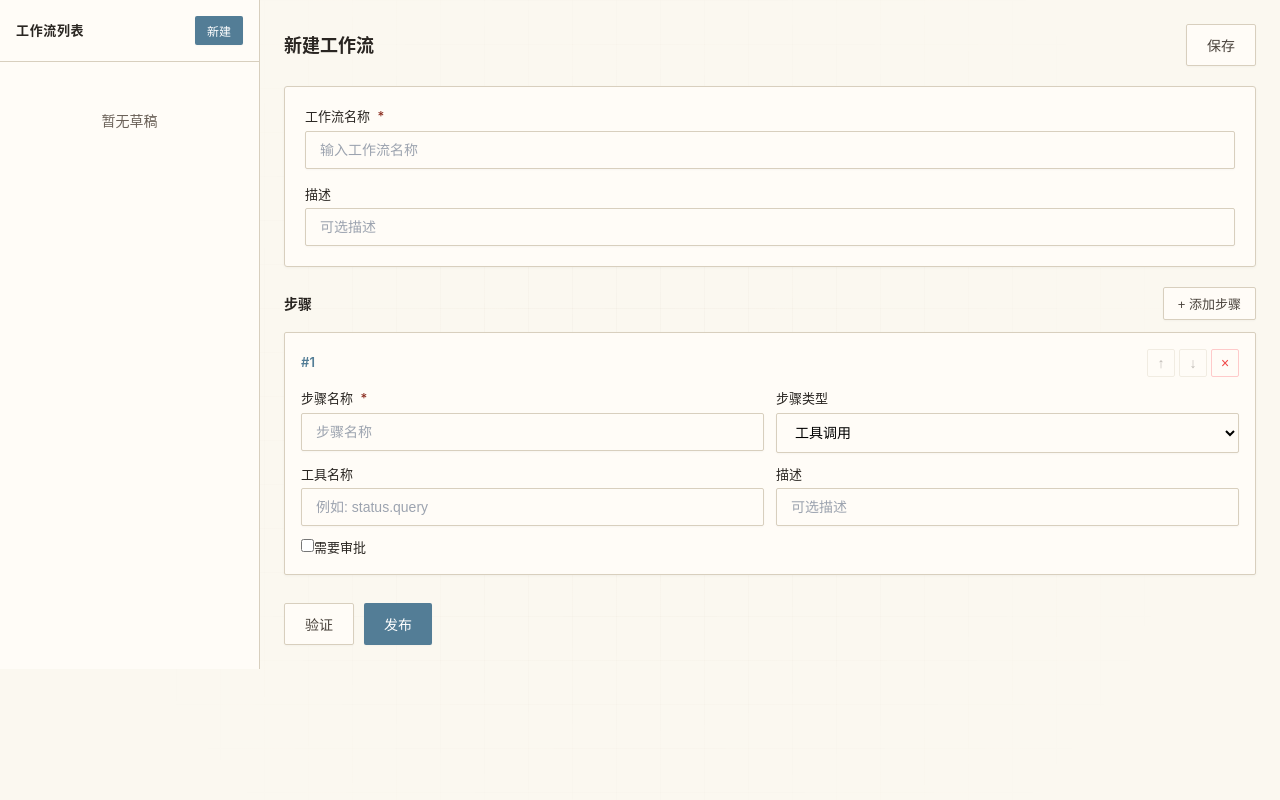
Test: WorkflowsTab › blocks publish for empty workflow with validation errors
The image size is (1280, 800).
Step 1. Click the button with test id "workflow-validate" → (319, 624), box [284,602,354,644]
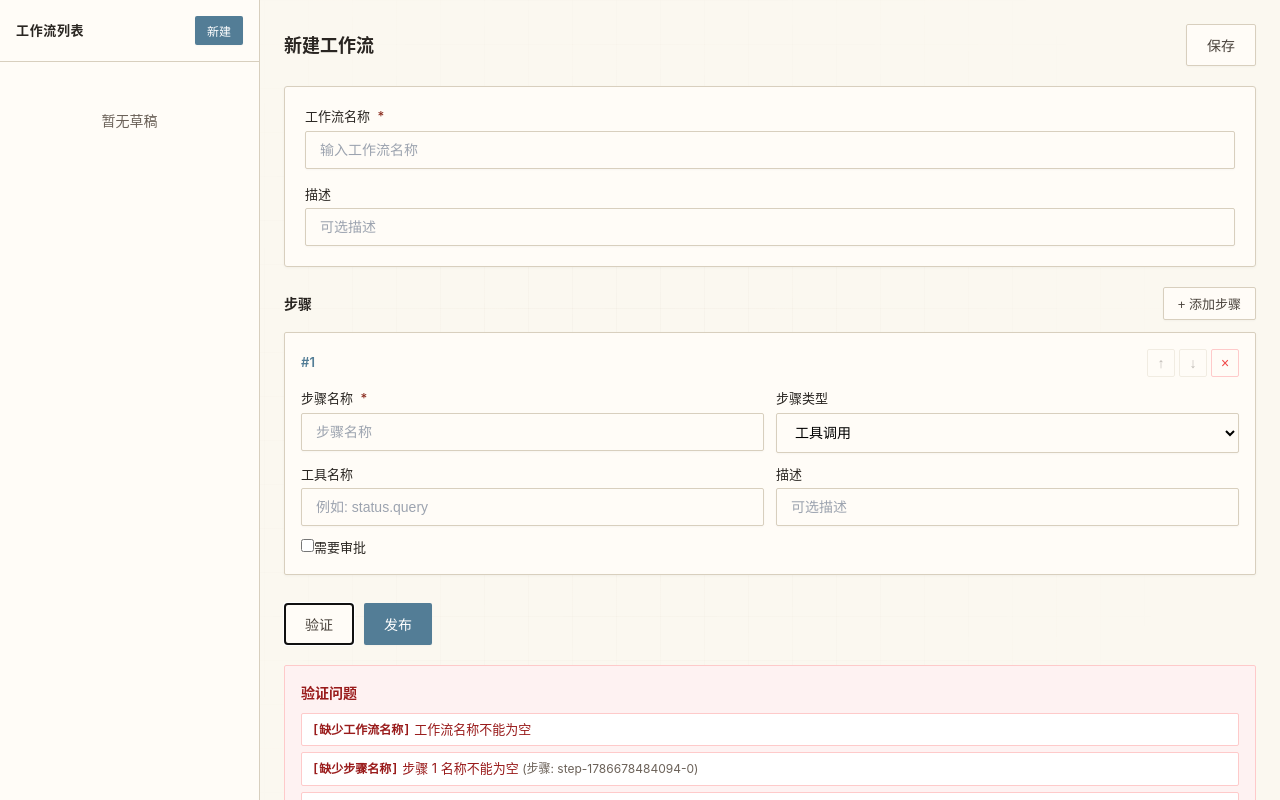
Expected: the button with test id "workflow-publish" is disabled, [364,602,432,644]
Expected: the list item "[缺少工作流名称] 工作流名称不能为空" is shown, [301,712,1239,746]
Expected: the text "[缺少工作流名称]" is shown, [312,722,410,736]
